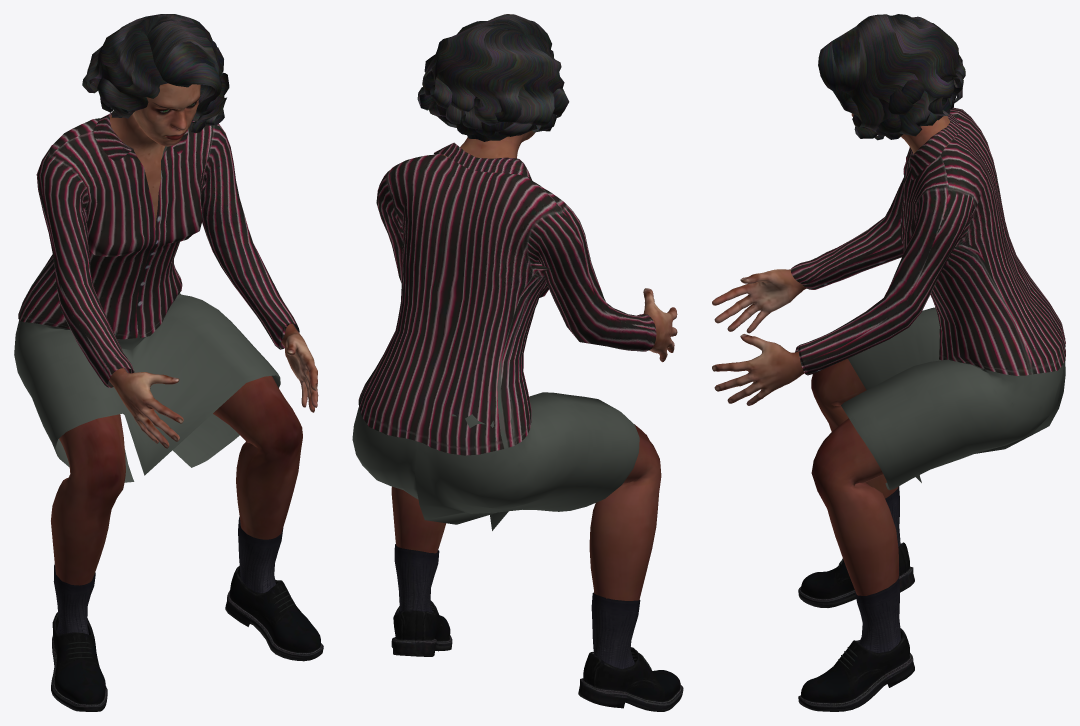
The model's file is donna-03.glb.
The picture shows the model from 3 angles, left to right: view 1: azimuth 30°, elevation 25°; view 2: azimuth 150°, elevation 25°; view 3: azimuth 270°, elevation 25°; orthographic projection. The views are drawn at different scales.
Parts seen in each view (by area): view 1: Human.female_elegantsuit01, Human, Human.shoes03, Human.elvs_wavy_bob; view 2: Human.female_elegantsuit01, Human.elvs_wavy_bob, Human, Human.shoes03; view 3: Human.female_elegantsuit01, Human, Human.elvs_wavy_bob, Human.shoes03.
Boxes of the visible parts, x1,y1,x2,y2 form: Human.female_elegantsuit01: [14, 112, 299, 482]; Human: [51, 83, 318, 585]; Human.shoes03: [51, 517, 323, 711]; Human.elvs_wavy_bob: [82, 14, 229, 133]; Human.female_elegantsuit01: [352, 142, 656, 530]; Human.elvs_wavy_bob: [417, 14, 569, 141]; Human: [391, 130, 677, 600]; Human.shoes03: [391, 544, 683, 711]; Human.female_elegantsuit01: [790, 108, 1065, 490]; Human: [712, 113, 951, 595]; Human.elvs_wavy_bob: [818, 14, 965, 140]; Human.shoes03: [798, 486, 914, 711].
Bounding box in the file's own units: 0.566 × 1.34 × 0.6768.
Materials: 12 (12 with a texture image).
